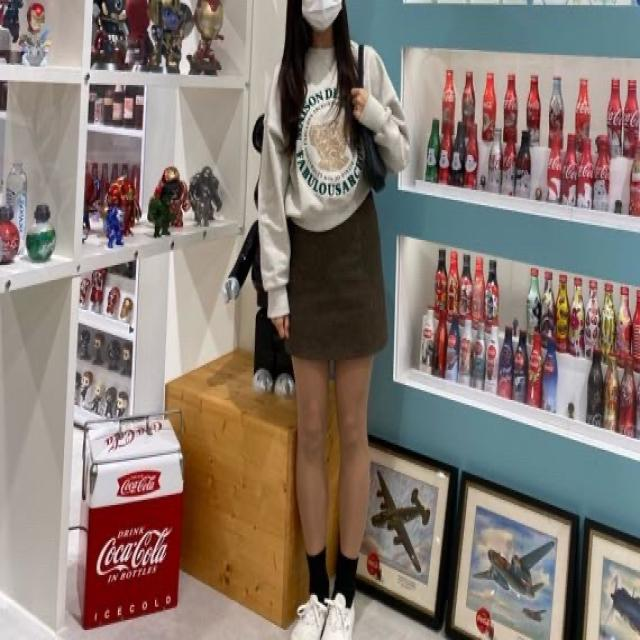mtm: (256, 38, 407, 318)
skirt: (286, 201, 389, 361)
